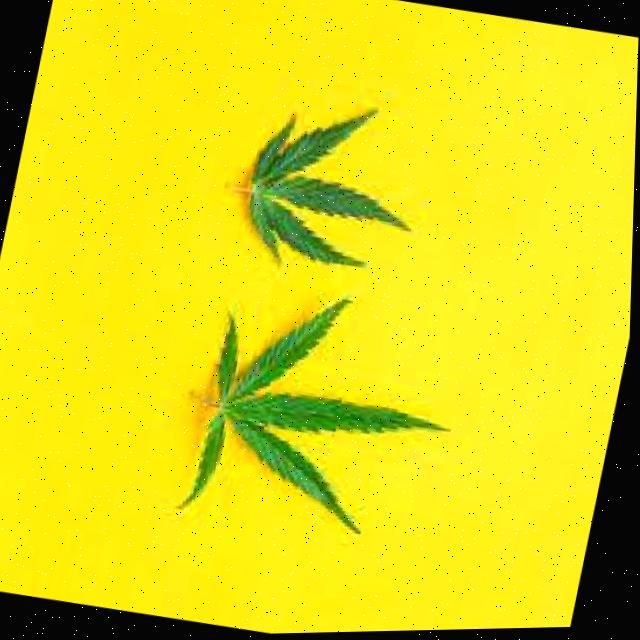cannabis: (167, 296, 447, 536), (222, 106, 410, 270)
